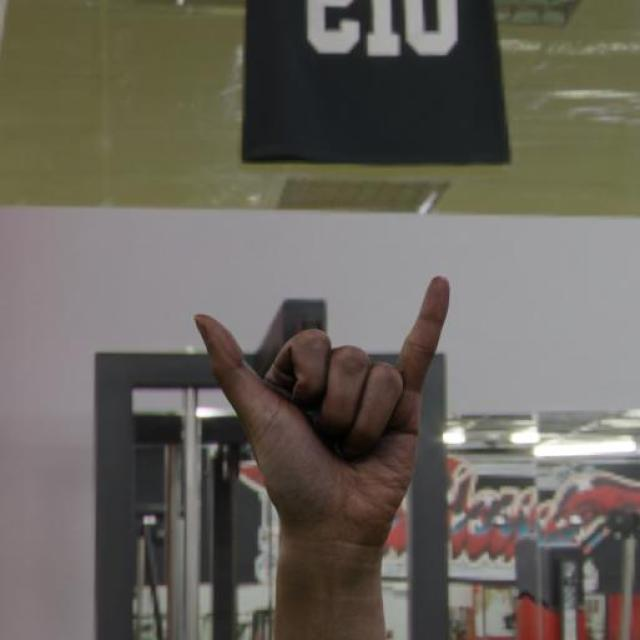Y: (190, 270, 456, 552)
